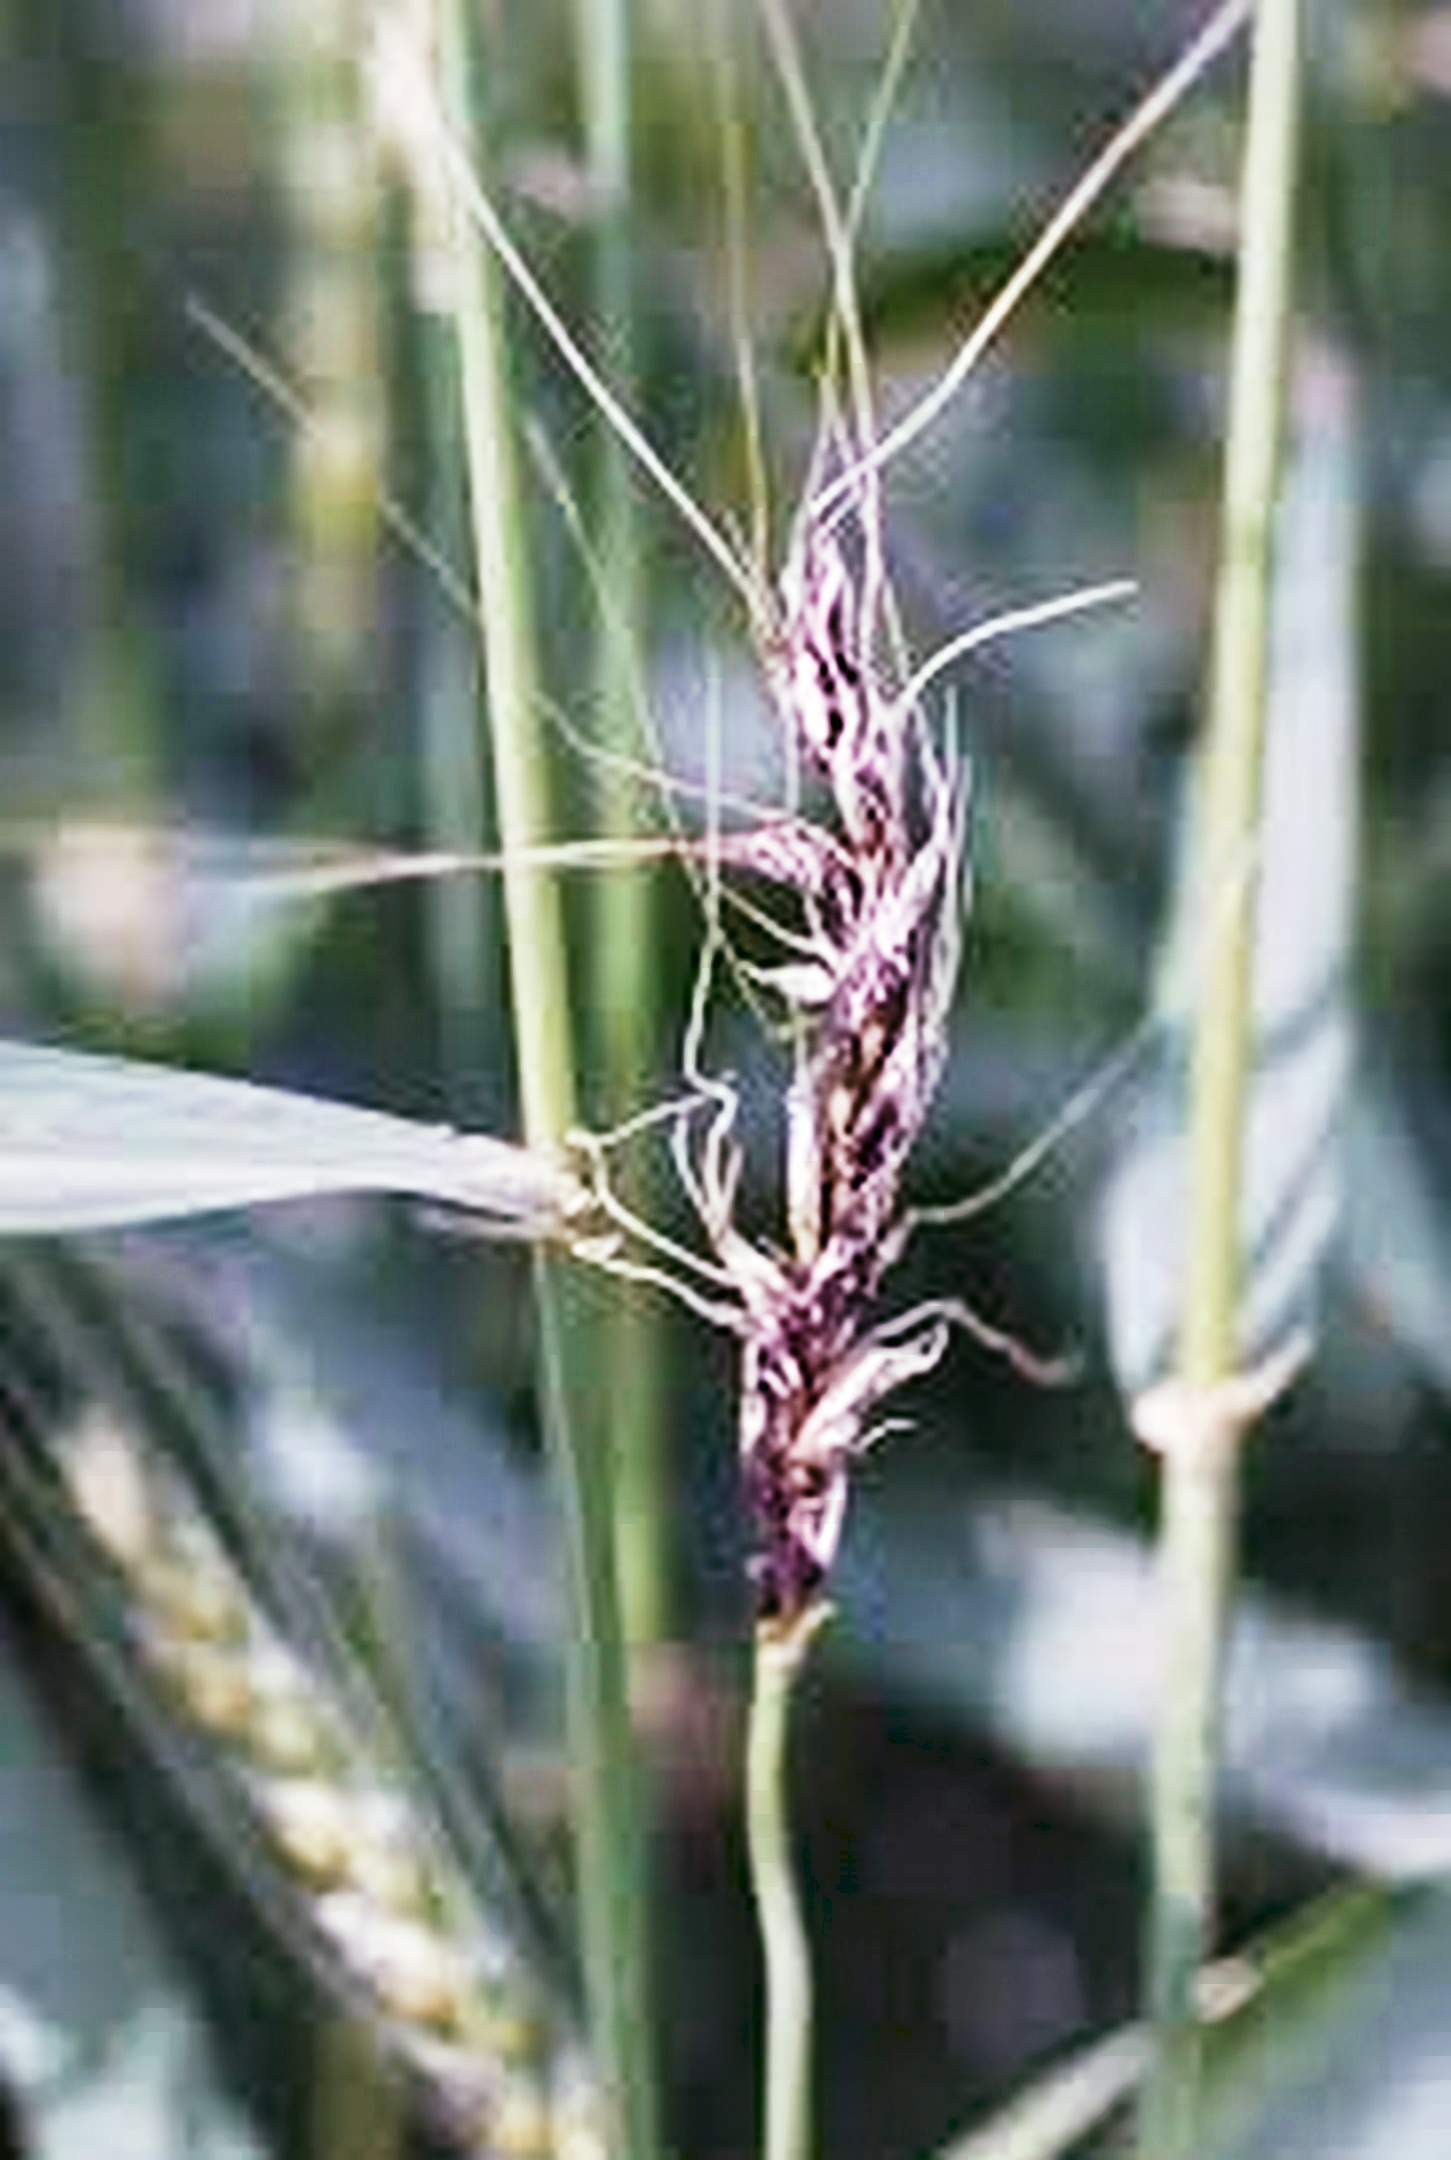Wheat Loose Smut: (682, 517, 1045, 1579)
